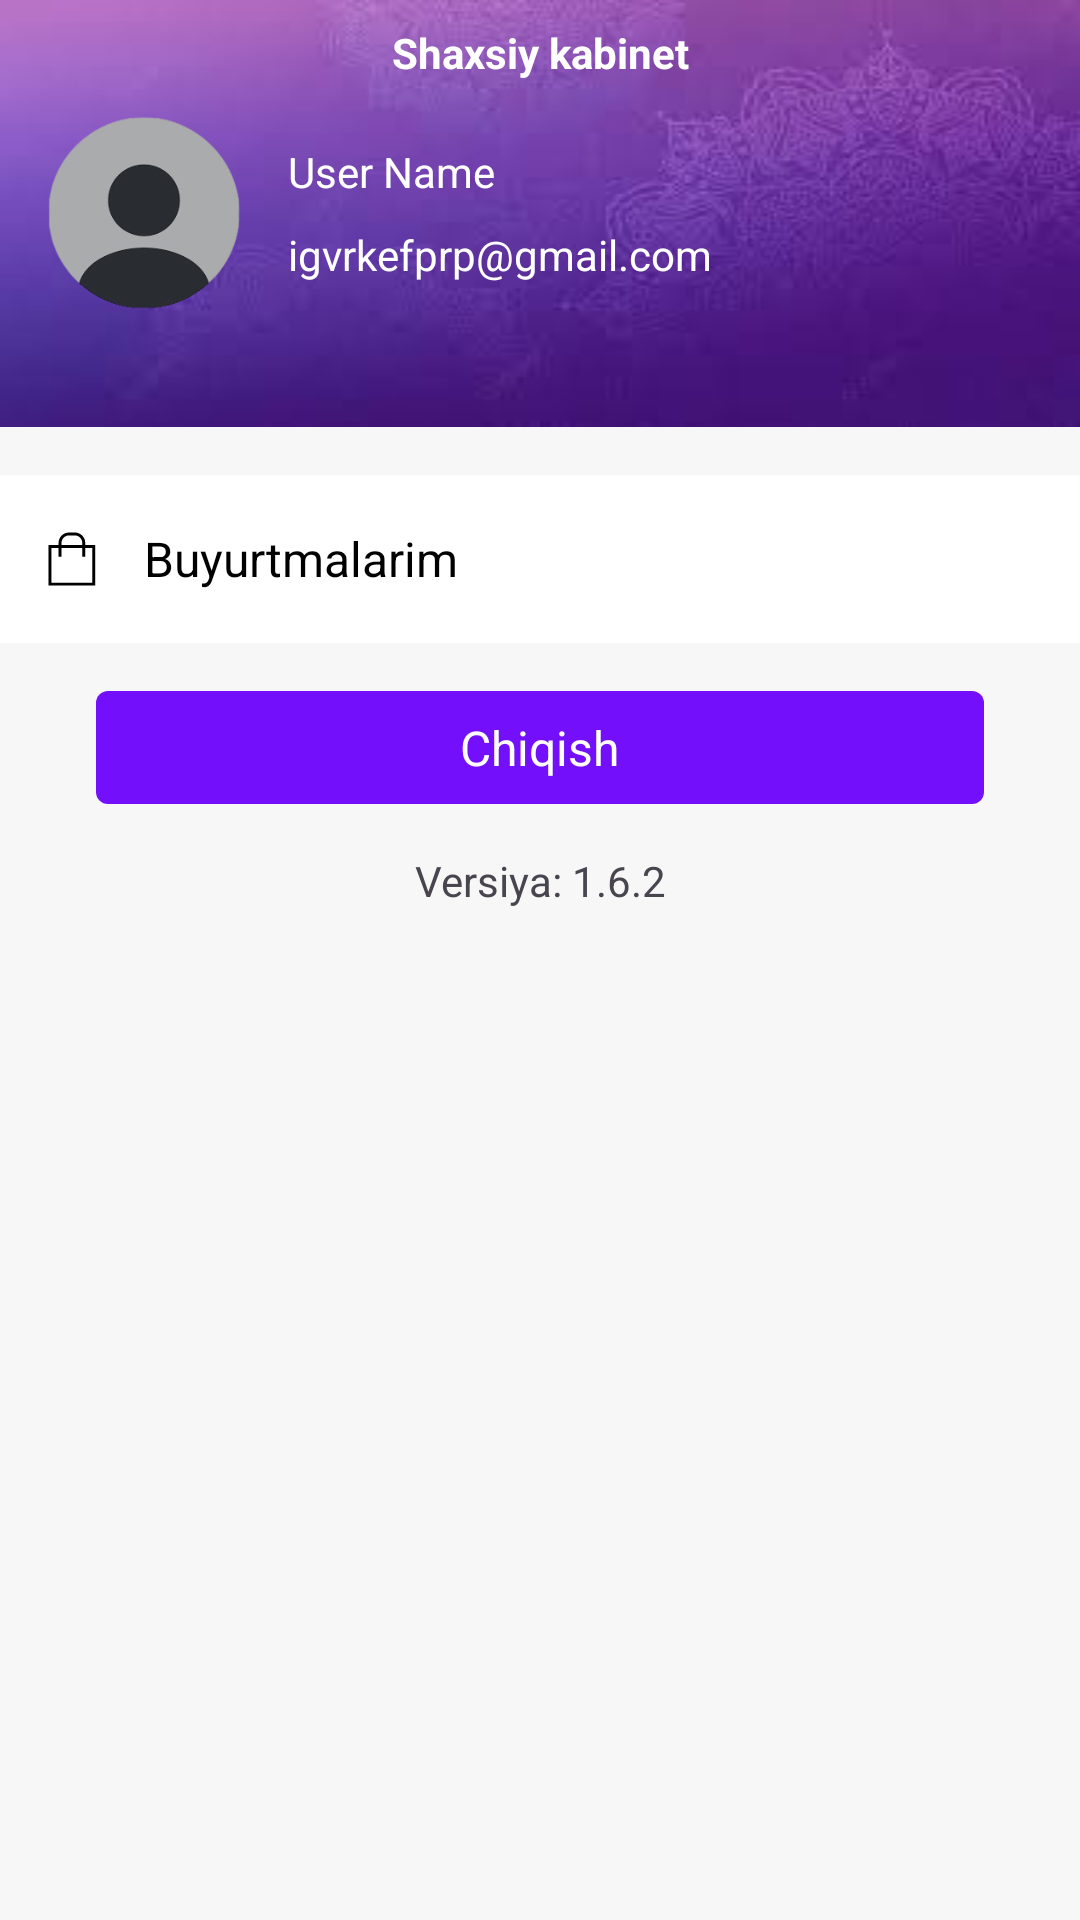

Icons on this 1080x1920 Android screen, each with its box as [left=x1, top=y1, right=x2, bottom=y2]:
basket: [left=48, top=532, right=96, bottom=586]
